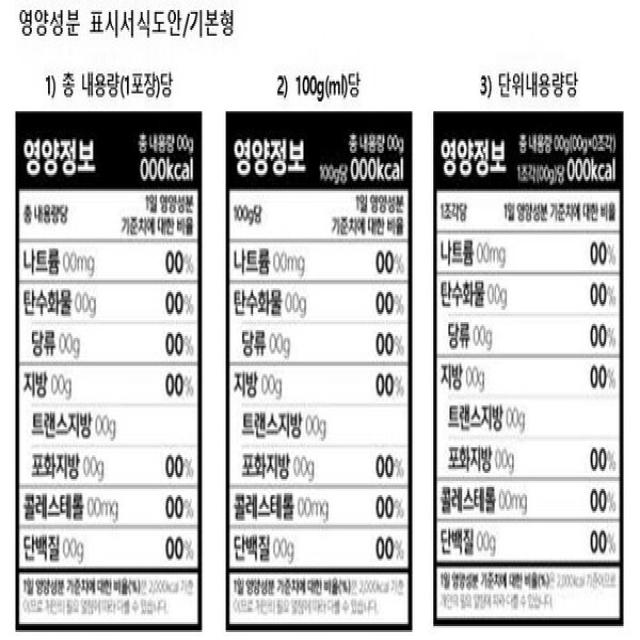Nutrition Label: (15, 97, 221, 627)
